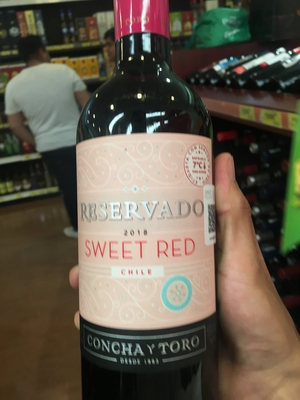reservado sweet red: (75, 8, 225, 400)
